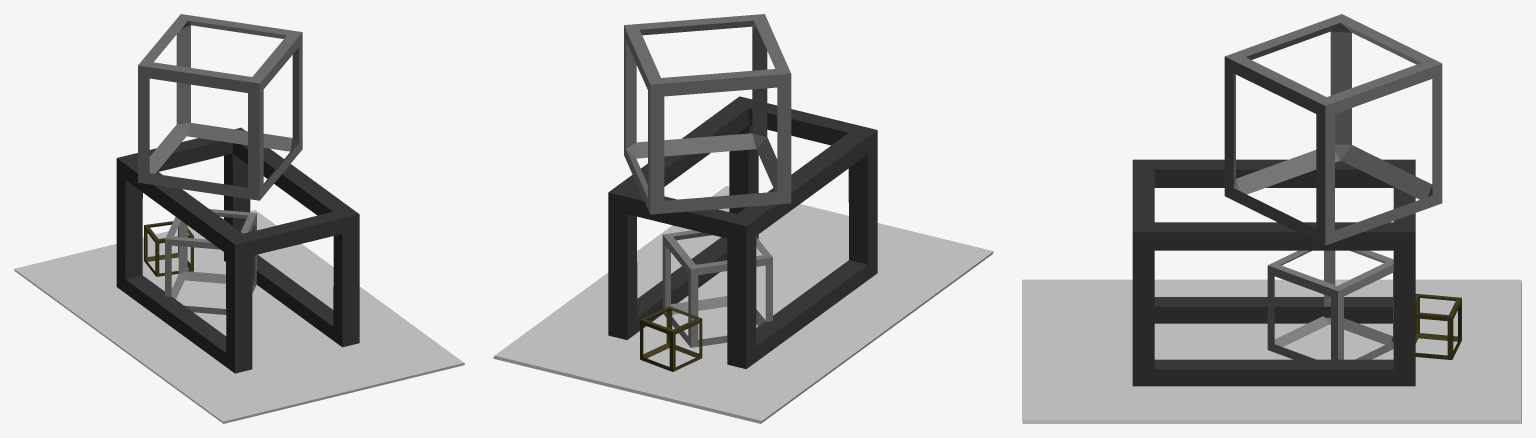
File: html.glb
The picture shows the model from 3 angles, left to right: view 1: azimuth 30°, elevation 25°; view 2: azimuth 150°, elevation 25°; view 3: azimuth 270°, elevation 25°; orthographic projection. The views are drawn at different scales.
Parts seen in each view (by area): view 1: Plane, Cube, Cube.001, Cube.002, Cube.003; view 2: Plane, Cube, Cube.001, Cube.002, Cube.003; view 3: Plane, Cube, Cube.001, Cube.002, Cube.003.
Boxes of the visible parts, <box> form: Plane: <box>14,210,464,423</box>; Cube: <box>116,127,359,373</box>; Cube.001: <box>138,14,302,200</box>; Cube.002: <box>165,209,256,314</box>; Cube.003: <box>144,221,193,276</box>; Plane: <box>493,186,993,423</box>; Cube: <box>608,96,877,369</box>; Cube.001: <box>624,14,791,214</box>; Cube.002: <box>662,230,772,347</box>; Cube.003: <box>640,306,702,371</box>; Plane: <box>1022,279,1521,423</box>; Cube: <box>1132,159,1415,386</box>; Cube.001: <box>1224,14,1442,245</box>; Cube.002: <box>1267,250,1393,359</box>; Cube.003: <box>1415,293,1461,359</box>.
Bounding box in the file's own units: 3.89 × 3.82 × 5.82.
